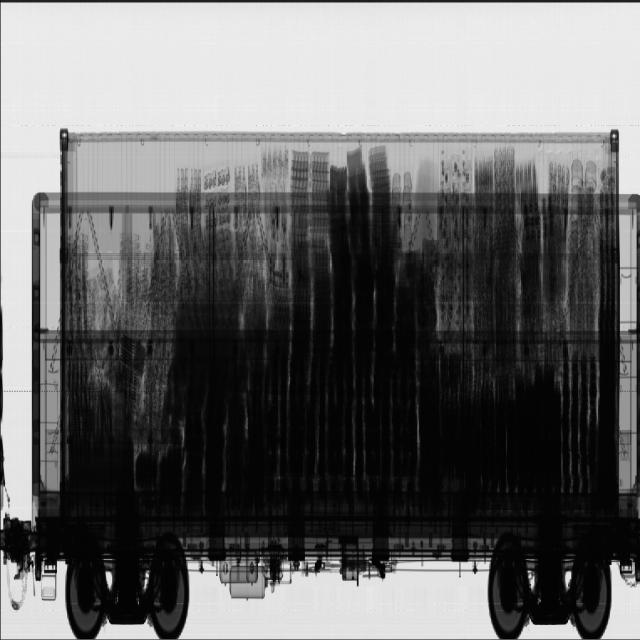tableware: (65, 149, 290, 409)
